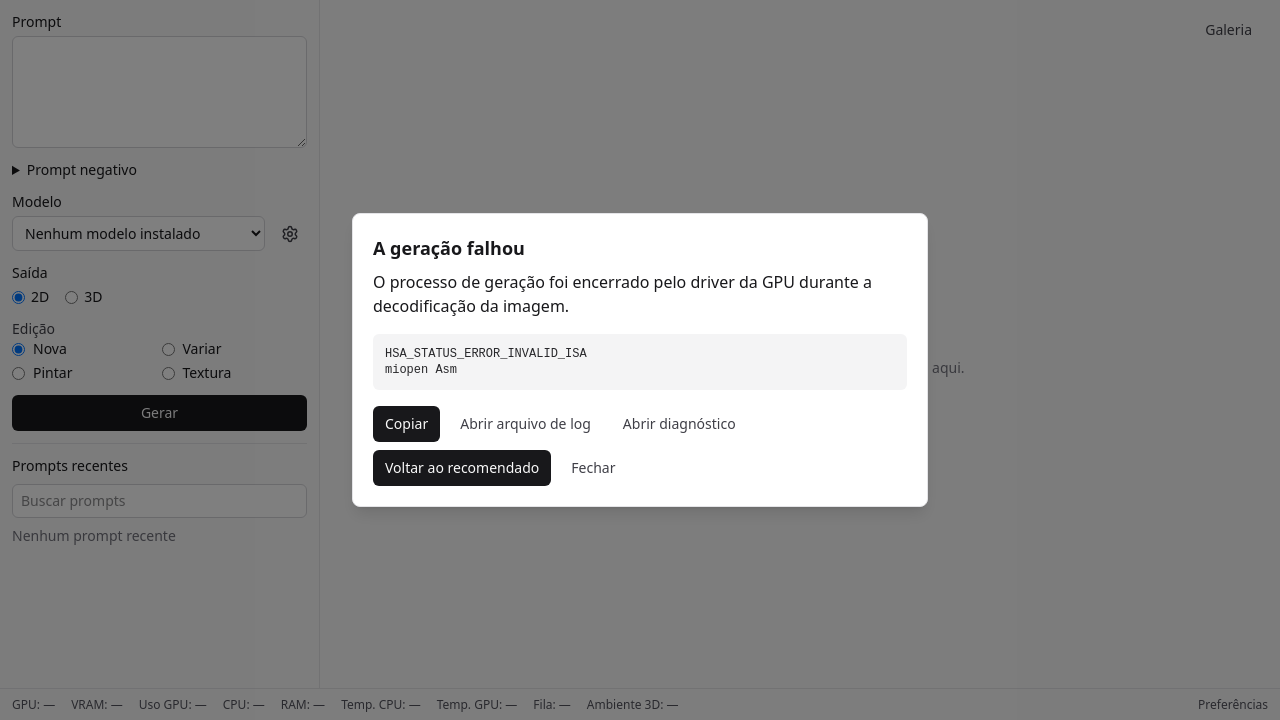
Test: App com modal de erro › mostra o resumo, copia o log e abre o arquivo
The width and height of the screenshot is (1280, 720).
Expected: the text "O processo de geração foi encerrado pelo driver da GPU durante a decodificação da imagem." is shown, [373,271,872,317]
Expected: the element named "Log" shows "miopen Asm", [385,347,587,377]
Click the button "Copiar" at {"x": 407, "y": 424}, box [373,406,440,442]
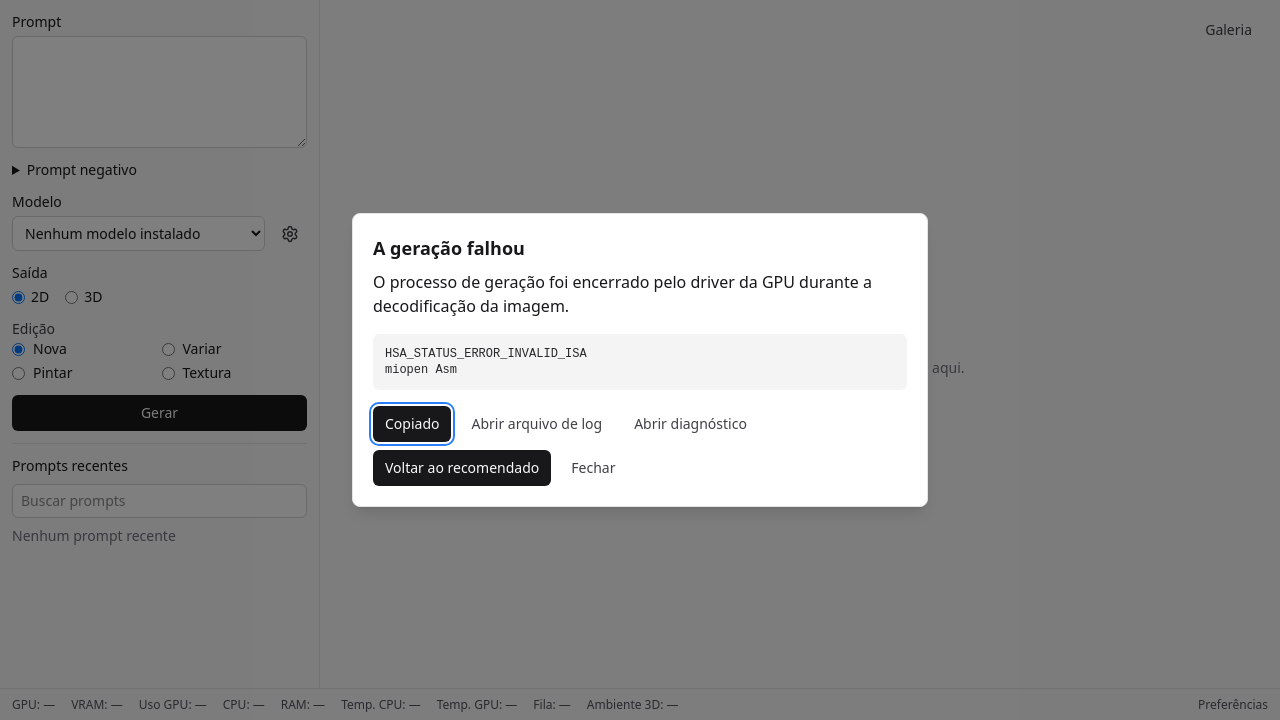
Now the button "Copiado" is shown, box [373,406,452,442]
Click the button "Abrir arquivo de log" at {"x": 537, "y": 424}, box [460,406,614,442]
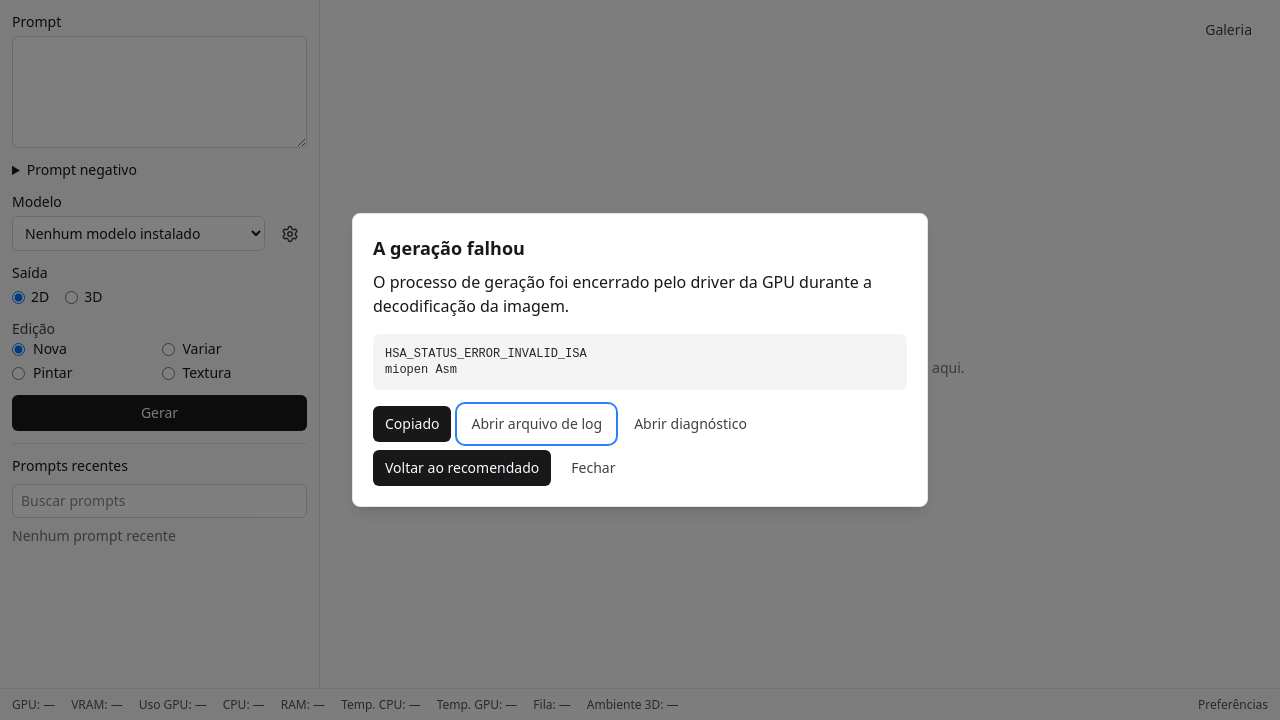
Click the button "Fechar" at {"x": 593, "y": 468}, box [559,450,628,486]
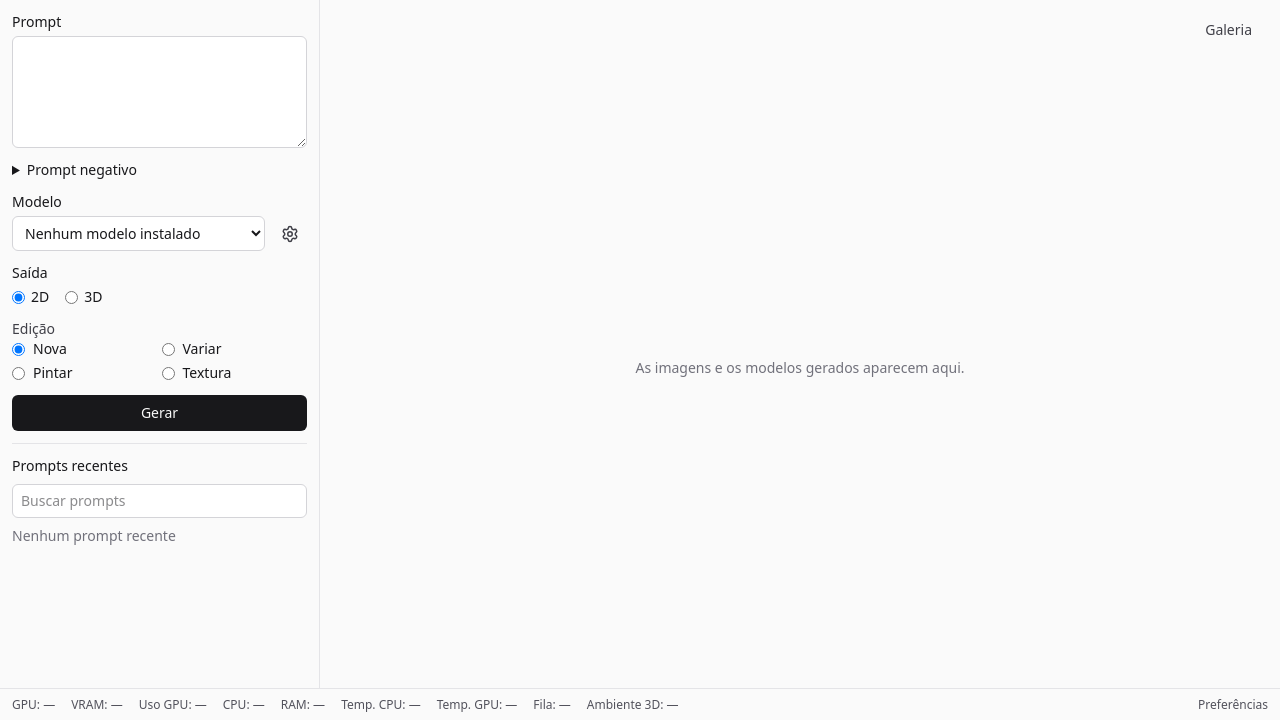
Now the dialog is gone
